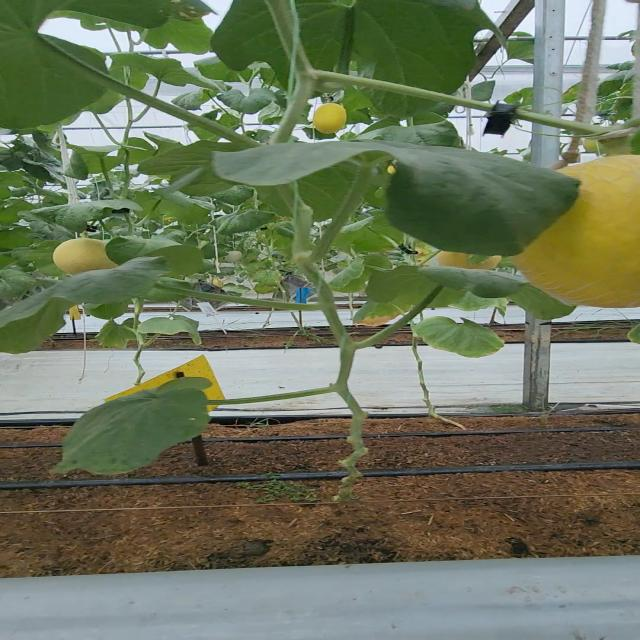Front-melon: (525, 164, 640, 307)
Rear-melon: (55, 236, 107, 272), (309, 103, 352, 137)
